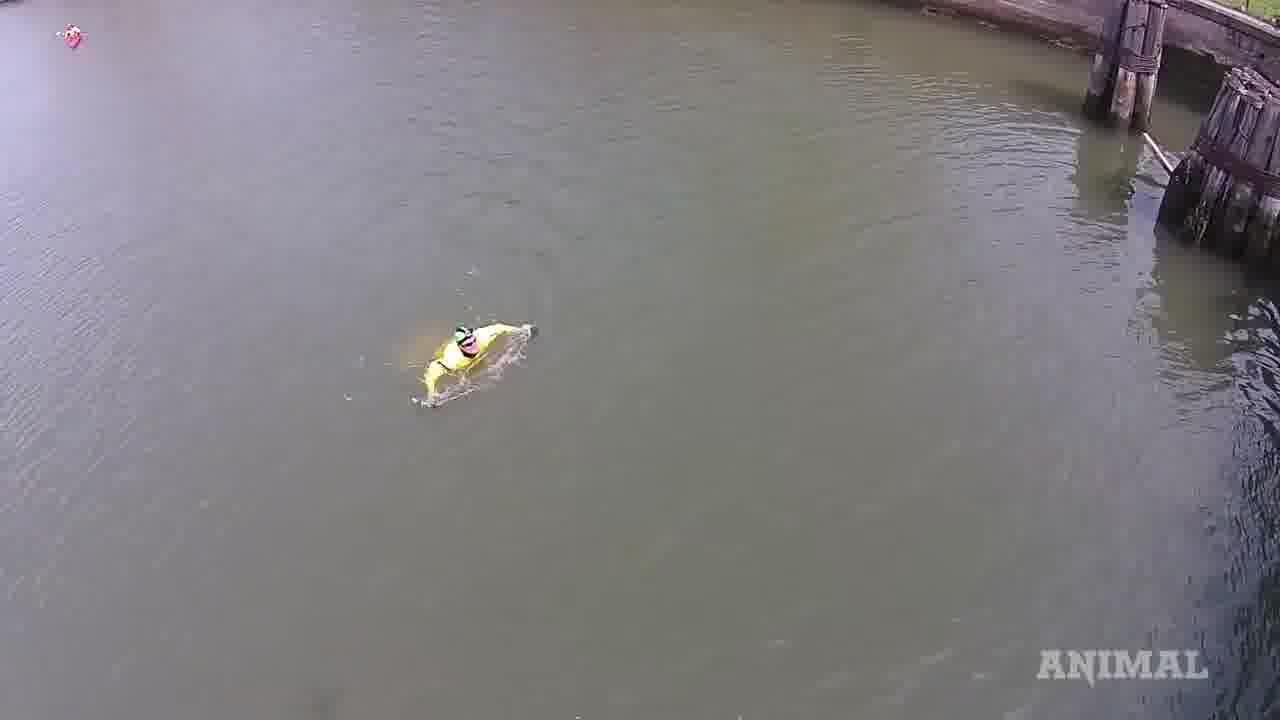human: (418, 307, 526, 412)
